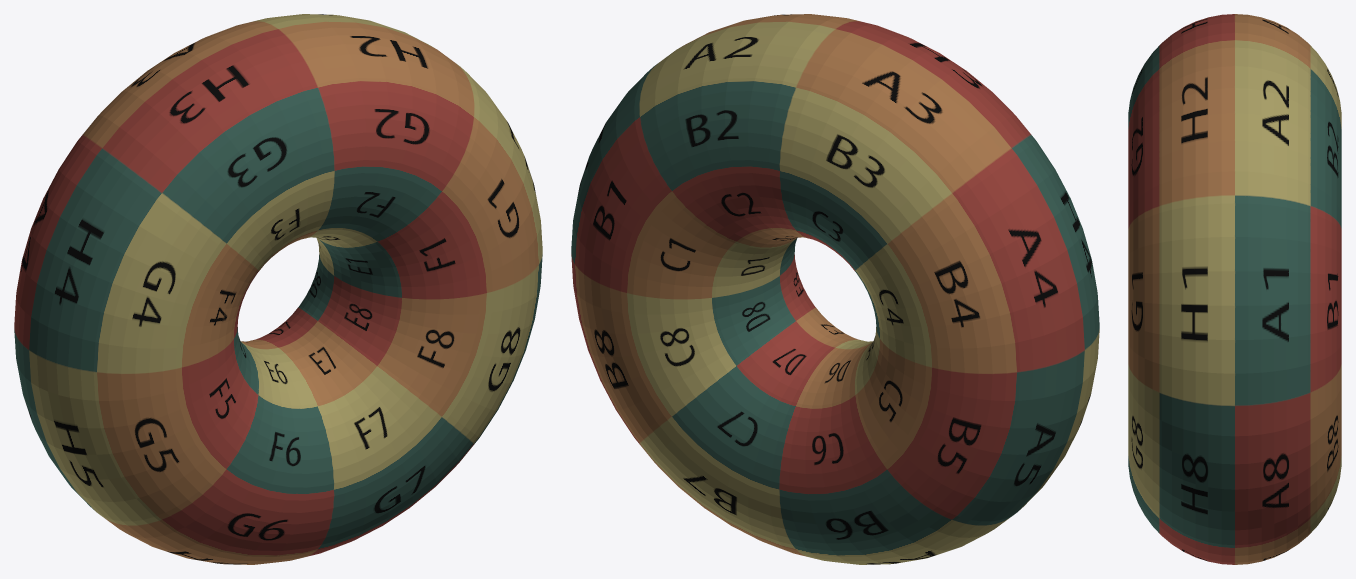
File: texture_torus_R8_r29.glb
3 renders of one model, left to right at view 1: azimuth 30°, elevation 25°; view 2: azimuth 150°, elevation 25°; view 3: azimuth 270°, elevation 25°, orthographic. The views are drawn at different scales.
Parts seen in each view (by area): view 1: world; view 2: world; view 3: world.
Part boxes in pixels (x1=…): world: x1=14, y1=14, x2=542, y2=564; world: x1=571, y1=14, x2=1099, y2=564; world: x1=1128, y1=14, x2=1341, y2=564.
Bounding box in the file's own units: 25.07 × 25.02 × 9.71.
Materials: 1 (1 with a texture image).
